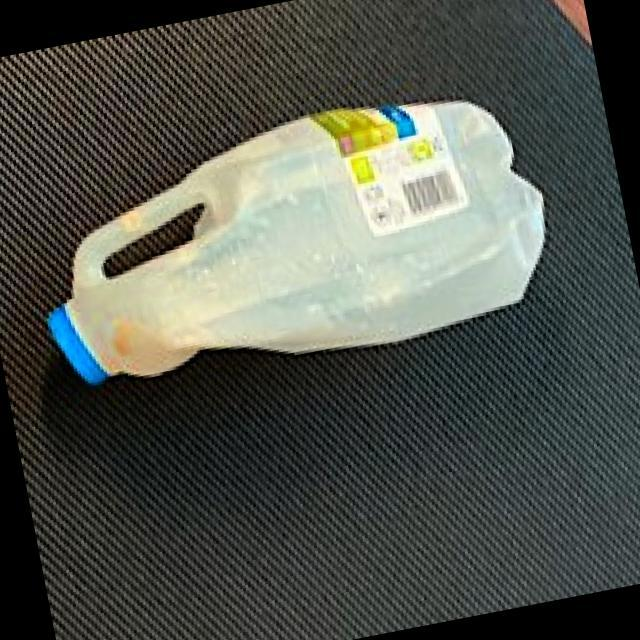HDPE Plastic: (44, 98, 548, 388)
